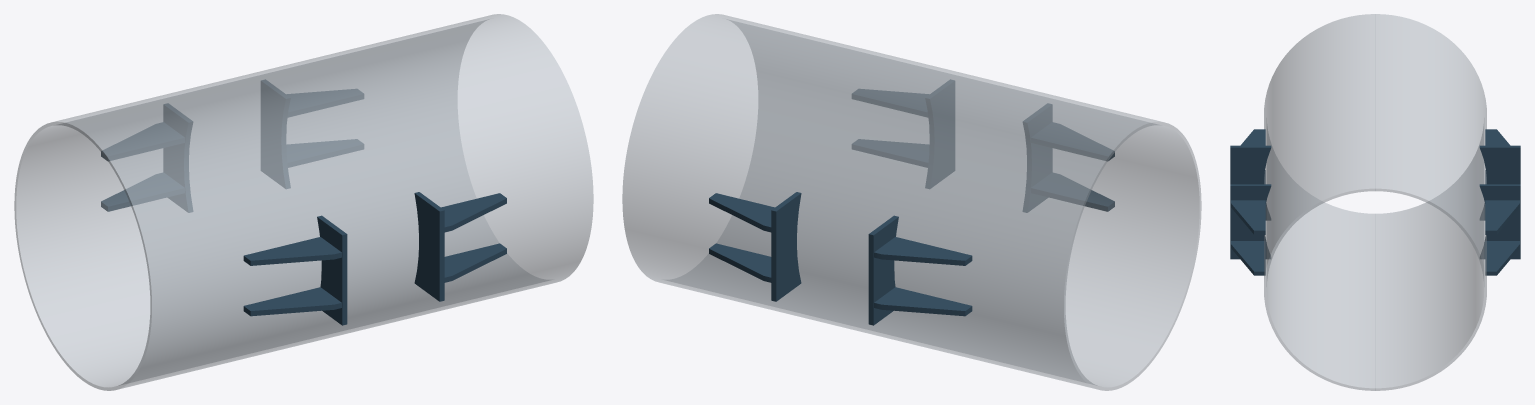
File: TS-665.00.00-02-opora-dn720.glb
3 renders of one model, left to right at view 1: azimuth 30°, elevation 25°; view 2: azimuth 150°, elevation 25°; view 3: azimuth 270°, elevation 25°, orthographic. The views are drawn at different scales.
Parts seen in each view (by area): view 1: truba, upor_1, upor_7, upor_4, upor_10, upor_5, upor_6, upor_11, upor_12, upor_8, upor_2, upor_3 (+1 smaller); view 2: truba, upor_7, upor_1, upor_10, upor_4, upor_12, upor_11, upor_6, upor_5, upor_3, upor_9, upor_8 (+1 smaller); view 3: truba, upor_4, upor_10, upor_1, upor_7, upor_2, upor_9, upor_3, upor_8, upor_5, upor_12.
Part boxes in pixels (x1,y1,x2,y2): truba: (14, 14, 593, 390); upor_1: (414, 192, 444, 301); upor_7: (261, 79, 290, 188); upor_4: (317, 215, 347, 325); upor_10: (163, 103, 192, 212); upor_5: (243, 237, 341, 265); upor_6: (243, 287, 341, 316); upor_11: (101, 172, 184, 211); upor_12: (101, 122, 184, 160); upor_8: (287, 139, 363, 167); upor_2: (441, 193, 506, 232); upor_3: (444, 243, 506, 282); truba: (622, 14, 1201, 390); upor_7: (771, 192, 801, 301); upor_1: (925, 79, 954, 188); upor_10: (868, 215, 898, 325); upor_4: (1023, 103, 1052, 212); upor_12: (874, 237, 972, 265); upor_11: (874, 287, 972, 316); upor_6: (1031, 172, 1114, 211); upor_5: (1031, 122, 1114, 160); upor_3: (852, 139, 928, 167); upor_9: (709, 193, 774, 232); upor_8: (709, 243, 771, 282); truba: (1264, 14, 1486, 390); upor_4: (1230, 145, 1271, 220); upor_10: (1479, 145, 1520, 220); upor_1: (1230, 184, 1271, 259); upor_7: (1479, 184, 1520, 259); upor_2: (1231, 200, 1265, 234); upor_9: (1485, 200, 1519, 234); upor_3: (1231, 241, 1265, 275); upor_8: (1485, 241, 1519, 275); upor_5: (1240, 129, 1265, 145); upor_12: (1485, 129, 1510, 145).
Size of the model in its own units: 1432 by 774 by 1006.
